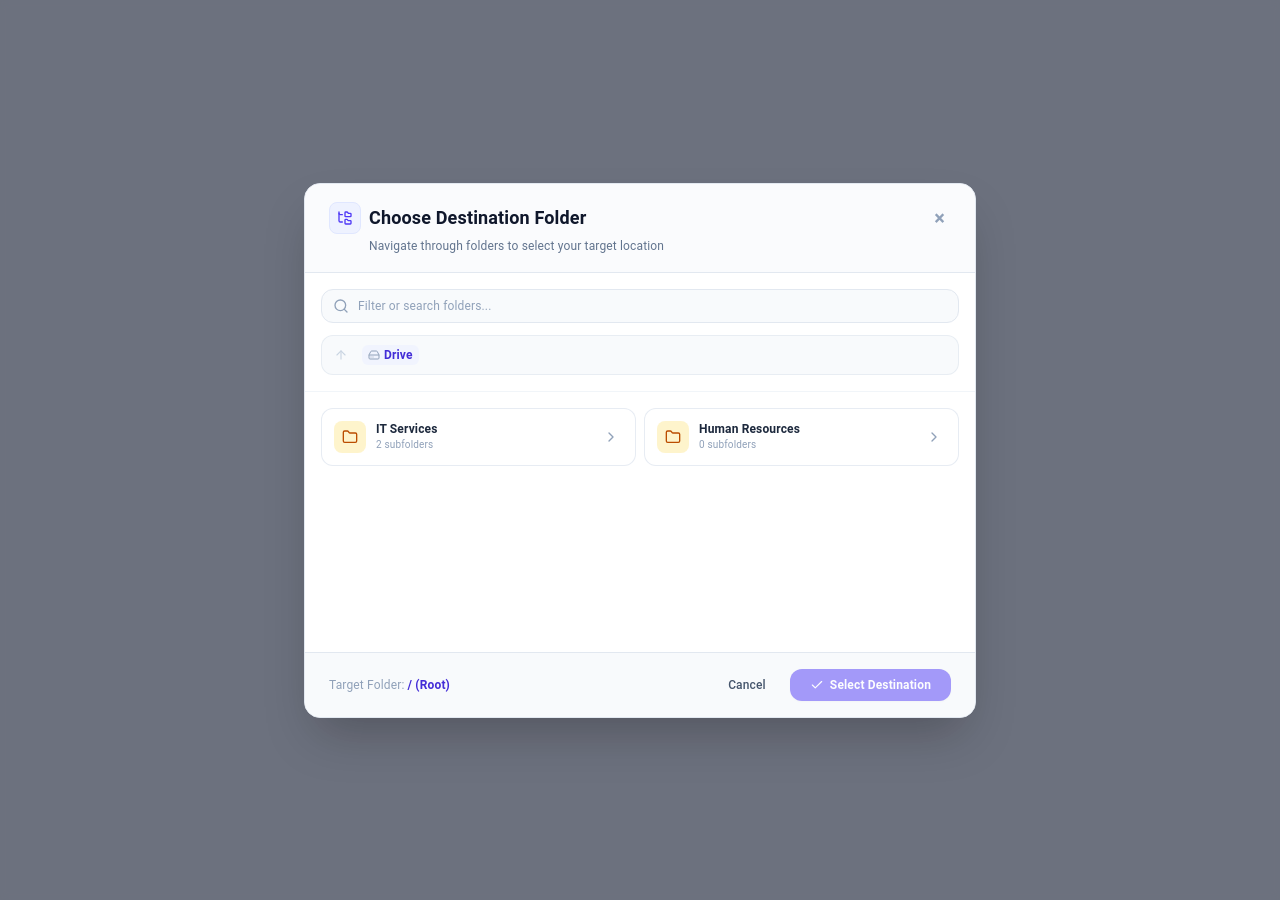
Test: FolderExplorerModal › allows drilling down into subfolders and updates breadcrumbs
// Double click or click open on IT Services
What coordinates should you click on to do the following:
click the button titled "Open folder" in the row of "IT Services"
I would click on:
 (611, 436)
Its box is x1=599 y1=424 x2=623 y2=448.
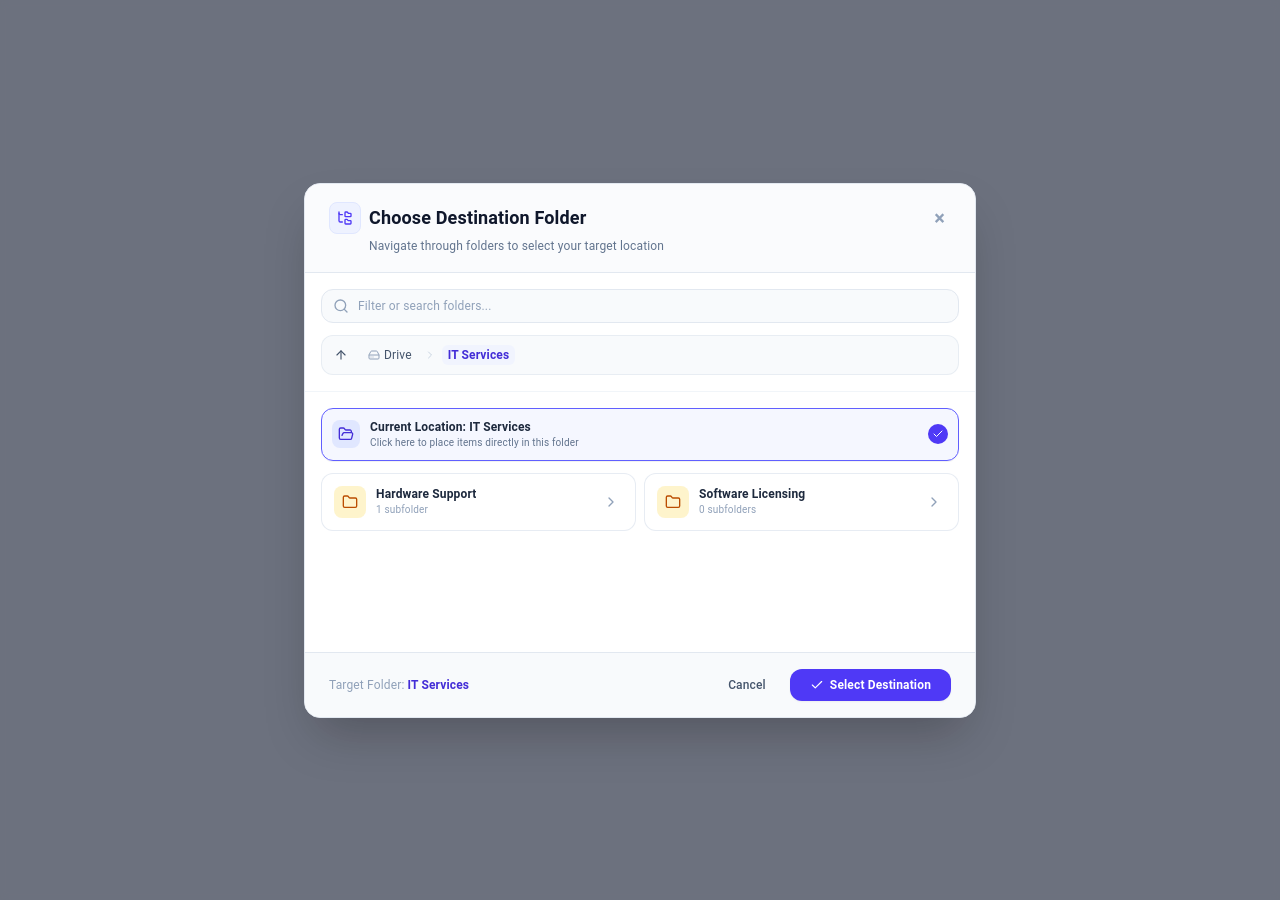
Result: the text "Hardware Support" is shown at x1=376 y1=486 x2=476 y2=502
Result: the text "Software Licensing" is shown at x1=699 y1=486 x2=805 y2=502
Result: the button "IT Services" is shown at x1=442 y1=344 x2=515 y2=364
